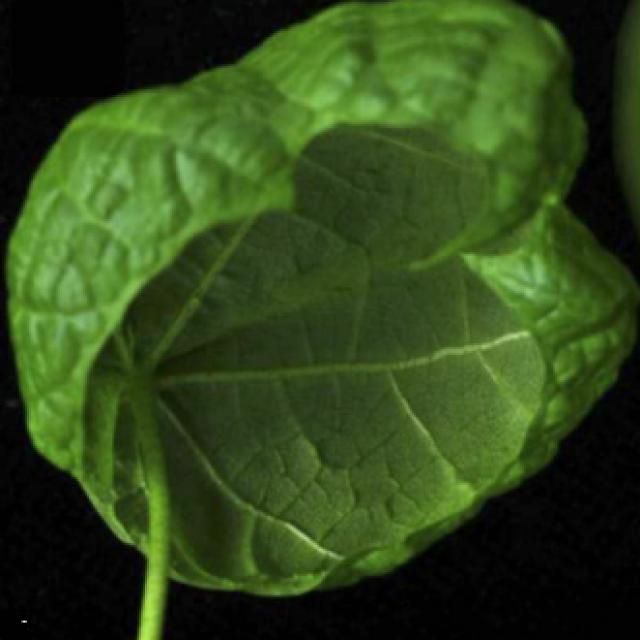Leaf Curl Virus: (61, 67, 524, 558)
